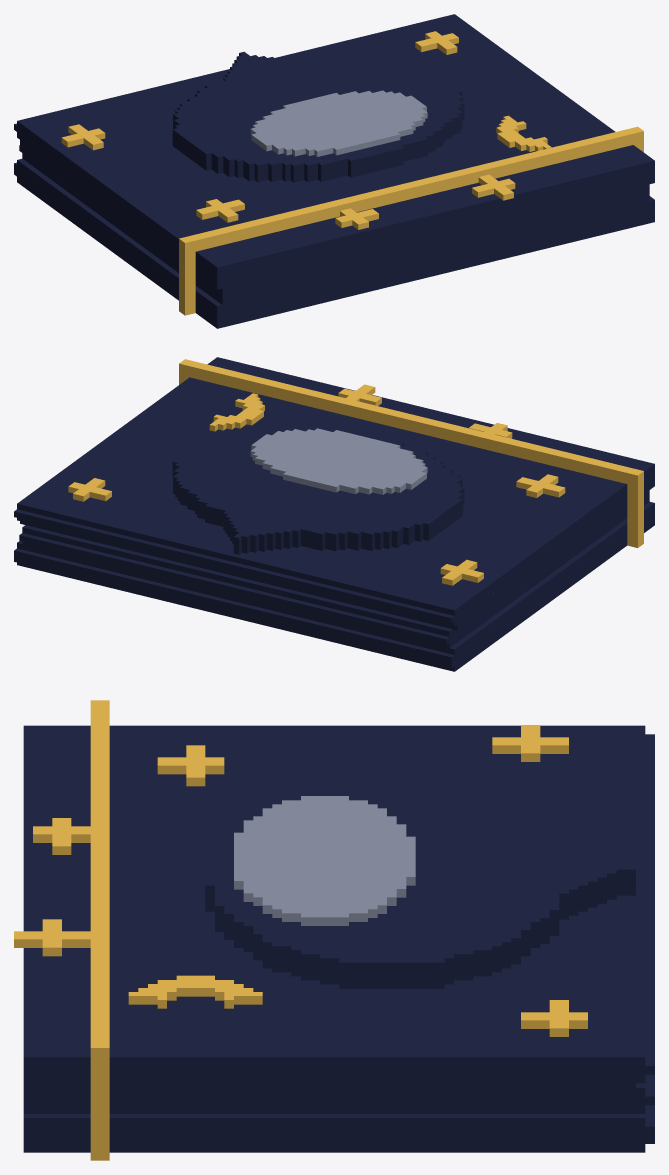
Rendered from robe_wizard.glb.
3 views of the same model, one above another, from view 1: azimuth 30°, elevation 25°; view 2: azimuth 150°, elevation 25°; view 3: azimuth 270°, elevation 25° (orthographic). The views are drawn at different scales.
Visible parts, largest first — view 1: robe_wizard:compound; view 2: robe_wizard:compound; view 3: robe_wizard:compound.
Boxes of the visible parts, bbox=[...] form: robe_wizard:compound: bbox=[14, 14, 654, 328]; robe_wizard:compound: bbox=[14, 357, 654, 671]; robe_wizard:compound: bbox=[14, 700, 654, 1160].
Bounding box in the file's own units: 0.344 × 0.06 × 0.268.
